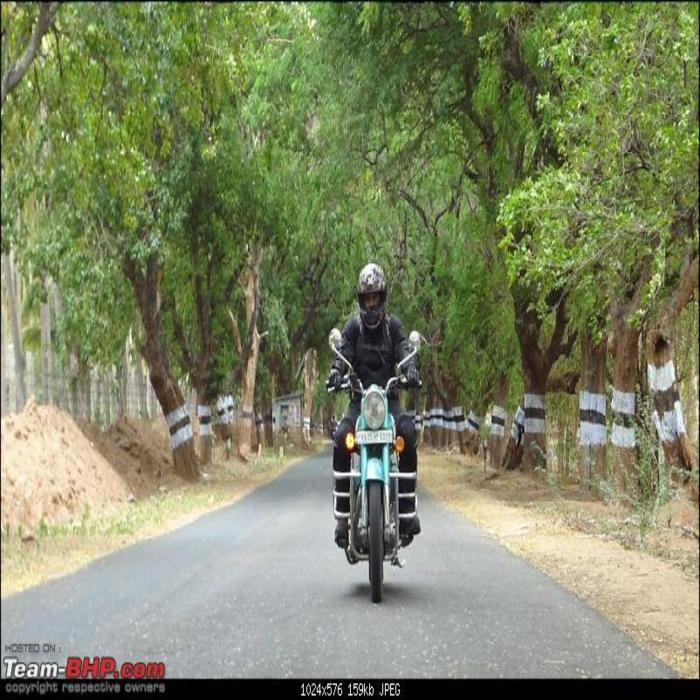h: (354, 261, 389, 332)
n: (353, 428, 395, 445)
